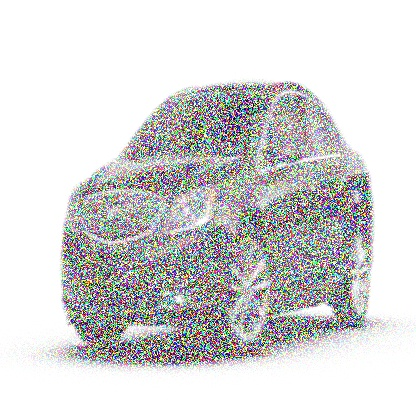Vehicle: (61, 82, 374, 360)
